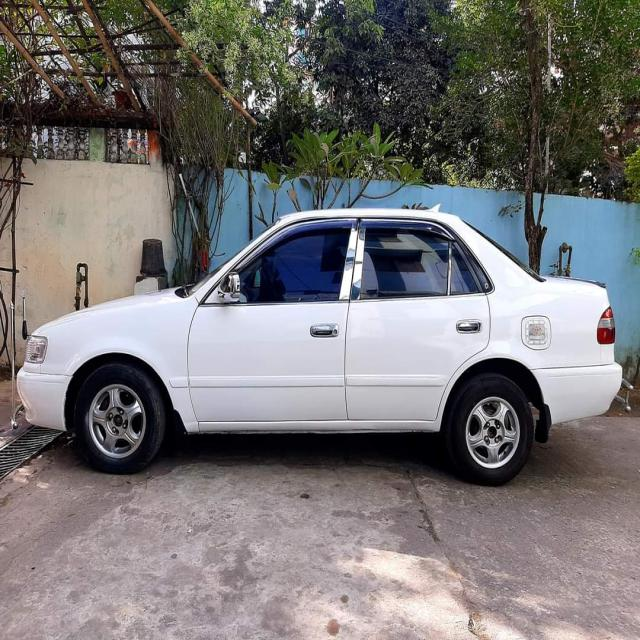white: (0, 206, 640, 484)
